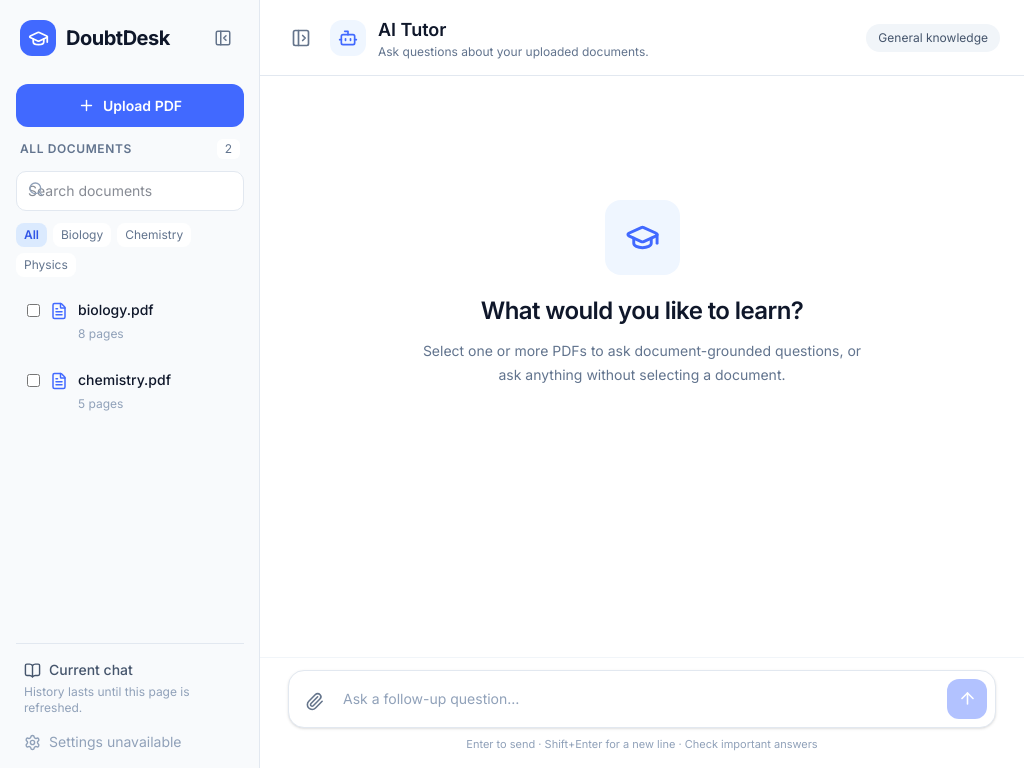
Test case: DoubtDesk App › filters documents by filename
Expected: the text "biology.pdf" is shown, x1=78 y1=300 x2=154 y2=320
Type "chemistry" into the field with placeholder "Search documents" at coordinates (130, 191), box x1=16 y1=171 x2=244 y2=211
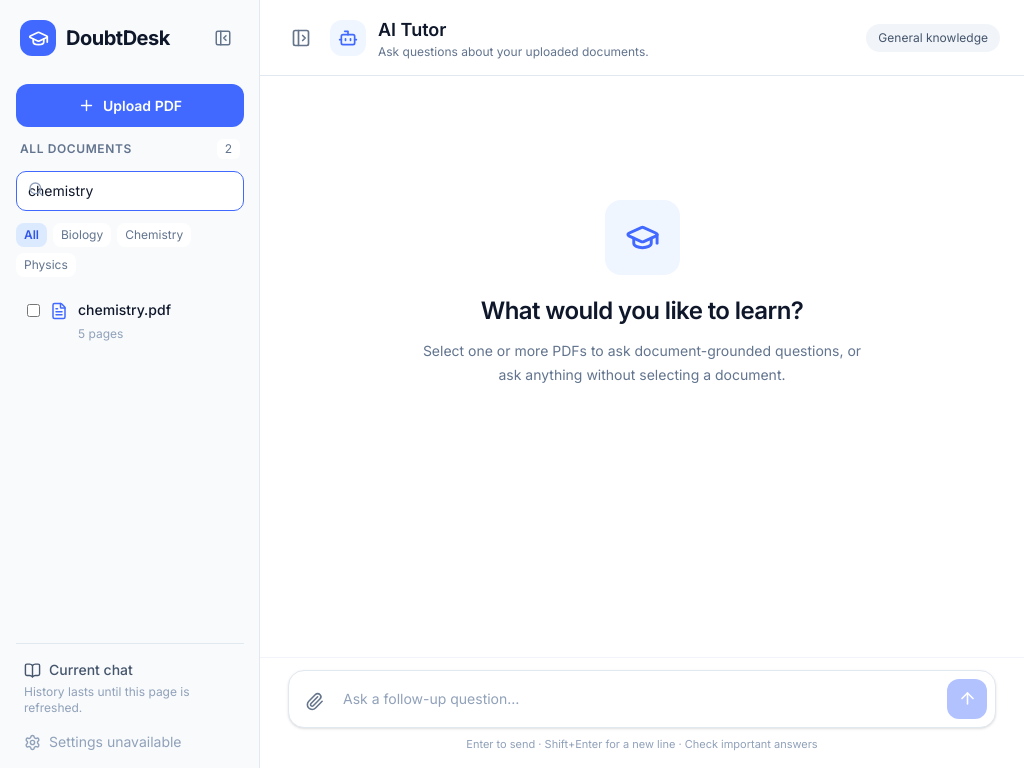
Expected: the text "chemistry.pdf" is shown, x1=78 y1=300 x2=171 y2=320
Now the text "biology.pdf" is gone
